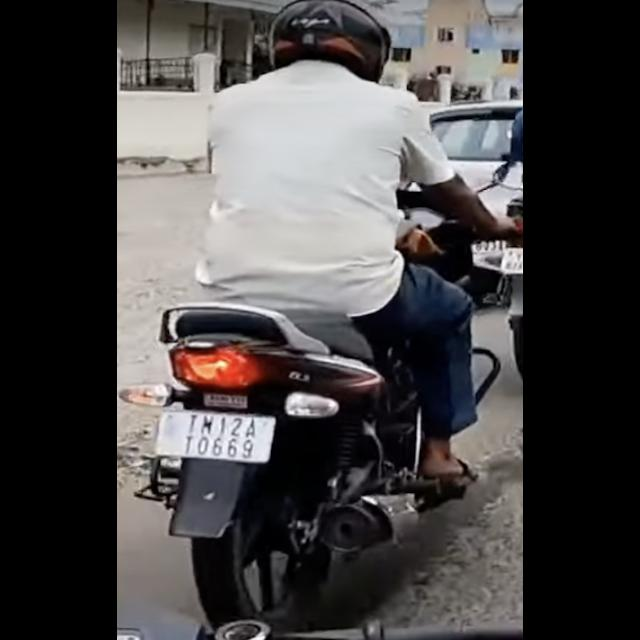with helmet: (268, 1, 392, 81)
